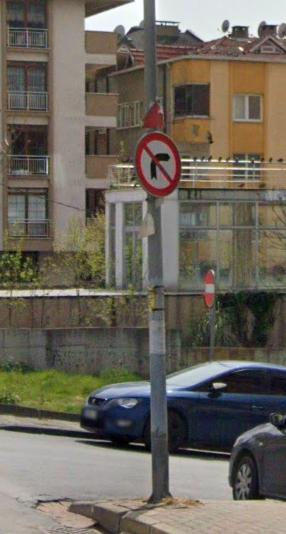rightturnsareforbidden: (135, 131, 181, 197)
